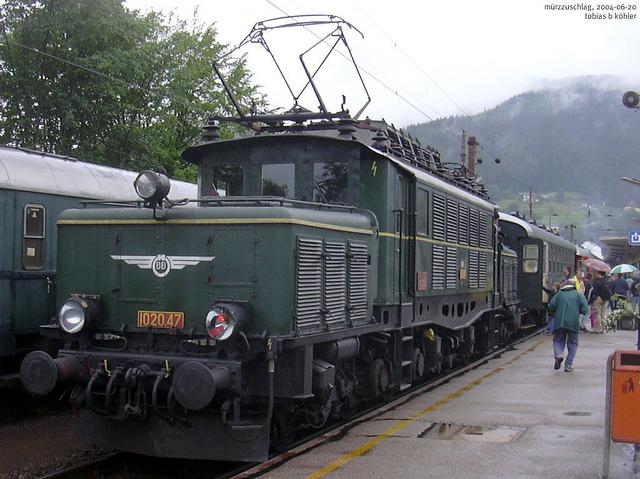Train: (23, 14, 581, 463), (3, 145, 200, 425)
